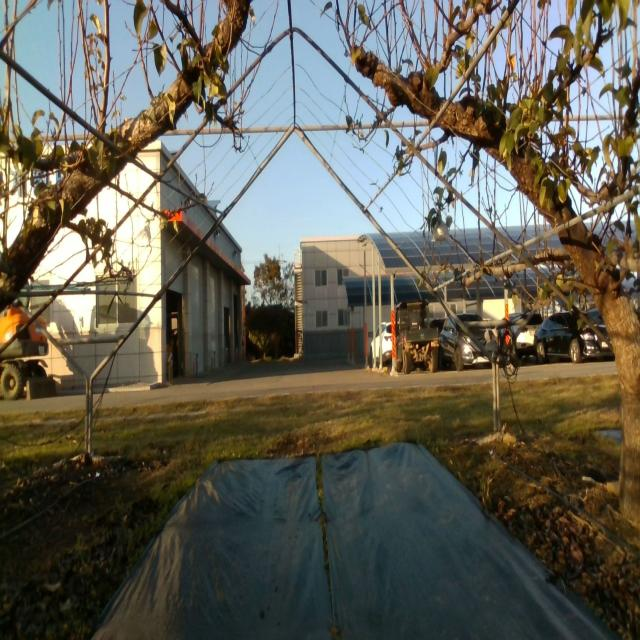pearbags: (431, 219, 451, 244), (138, 224, 150, 247)
